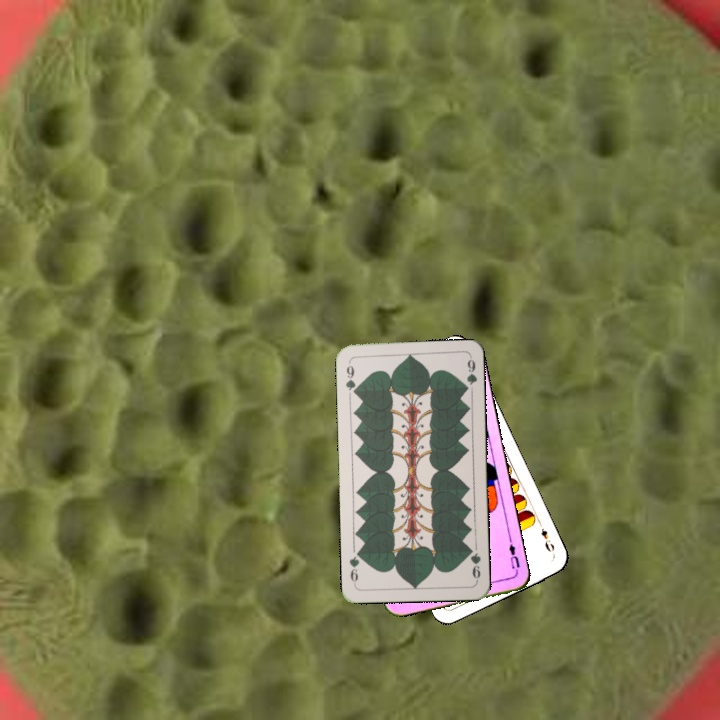E9: (535, 519, 557, 558)
EU: (505, 540, 522, 576)
G9: (465, 543, 483, 583), (342, 362, 359, 398)
